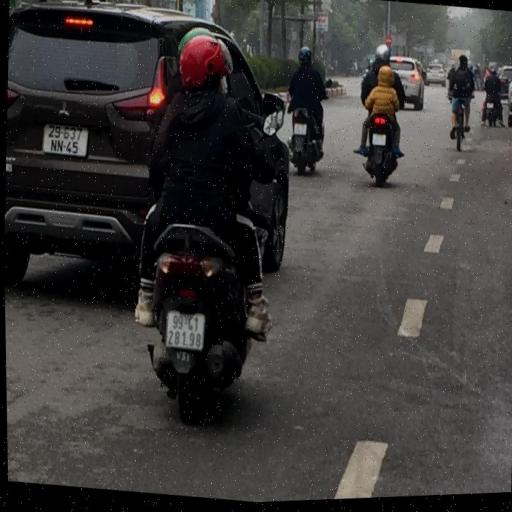bike: (124, 19, 282, 433), (352, 41, 408, 193), (282, 44, 328, 178), (444, 55, 477, 159), (480, 70, 506, 133)
numberplate: (41, 120, 89, 159), (163, 309, 203, 352), (371, 135, 385, 149), (293, 125, 306, 138)
with helmet: (177, 34, 234, 95), (374, 44, 390, 66), (298, 47, 312, 67)
